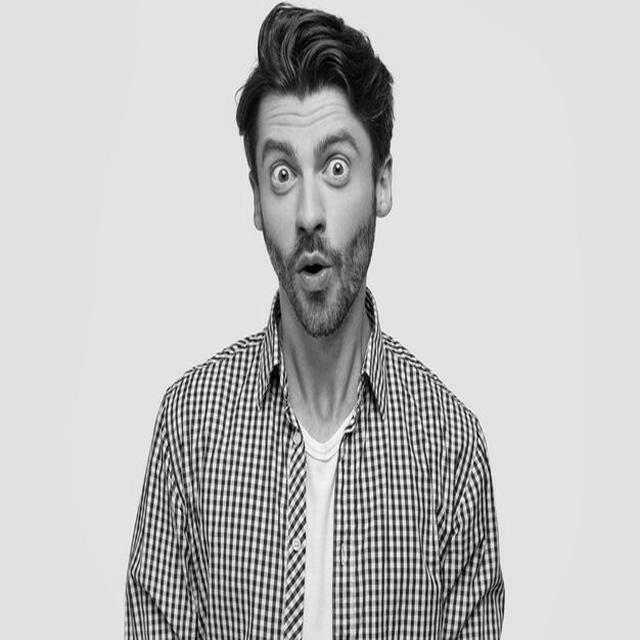Surprised: (255, 86, 377, 337)
